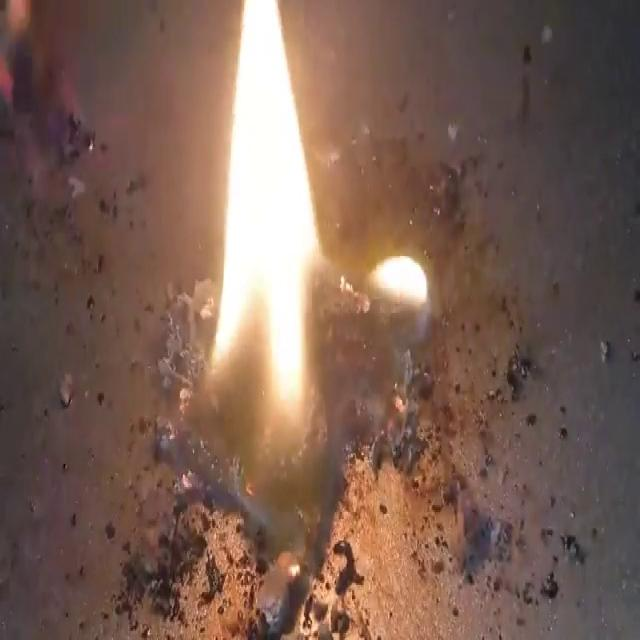Fire: (209, 3, 323, 436)
